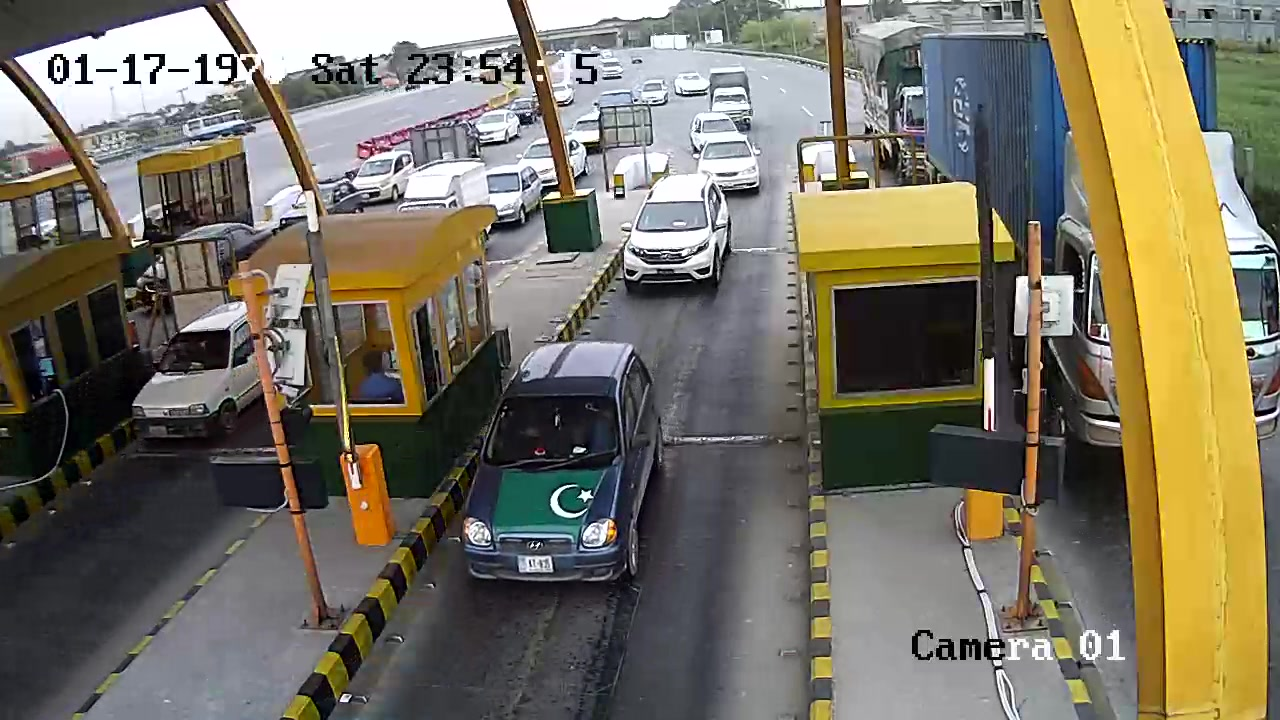F1: (459, 337, 683, 590)
